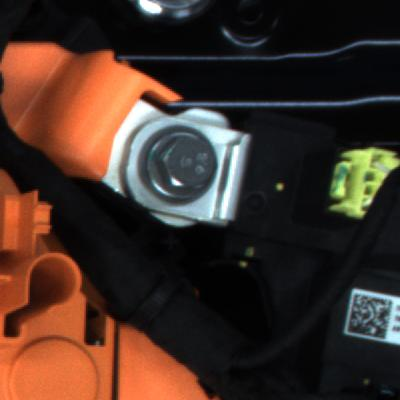nut_b: (130, 118, 235, 217)
